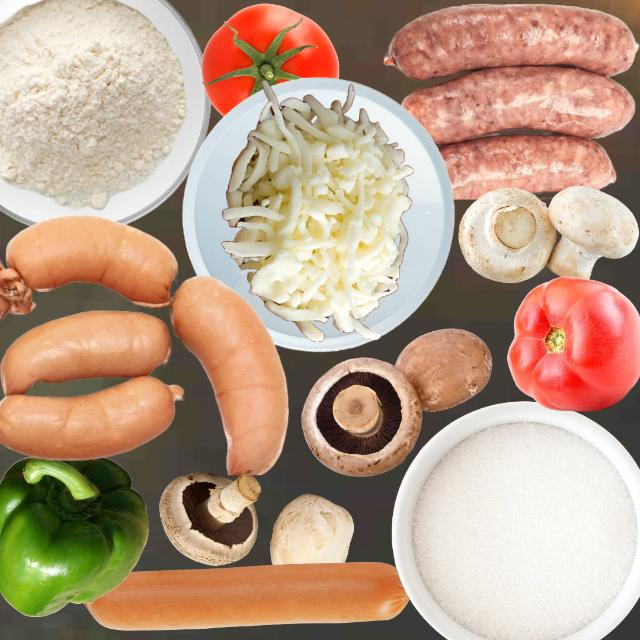Cocoa: (83, 560, 409, 631)
Flour: (0, 0, 186, 209)
Sugar: (409, 418, 638, 638)
